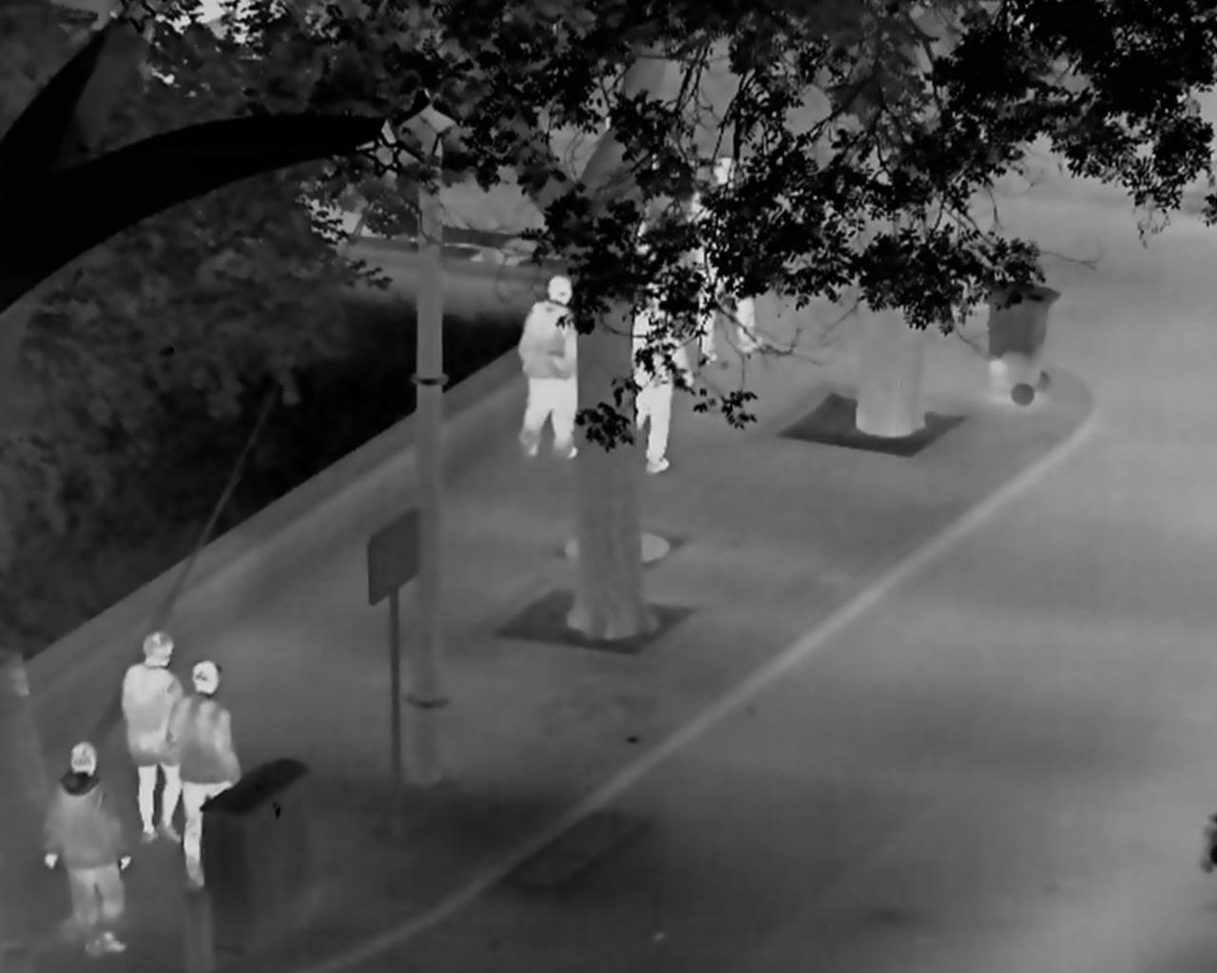person: (42, 739, 134, 956), (167, 659, 242, 887), (696, 155, 765, 362), (121, 630, 187, 846), (516, 272, 580, 460), (632, 282, 694, 476)
